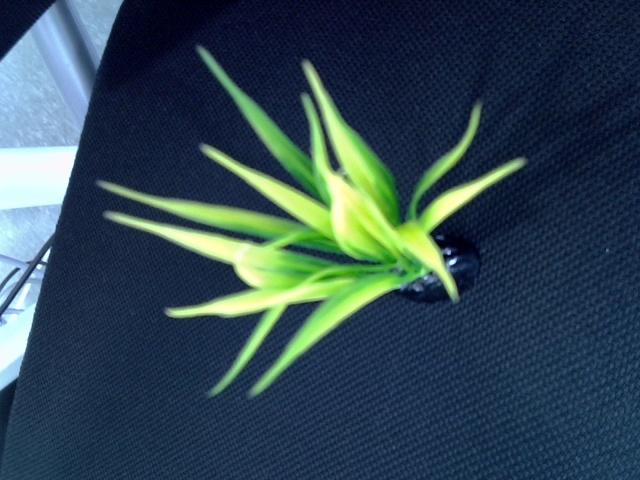해바라기새싹: (106, 43, 514, 396)
